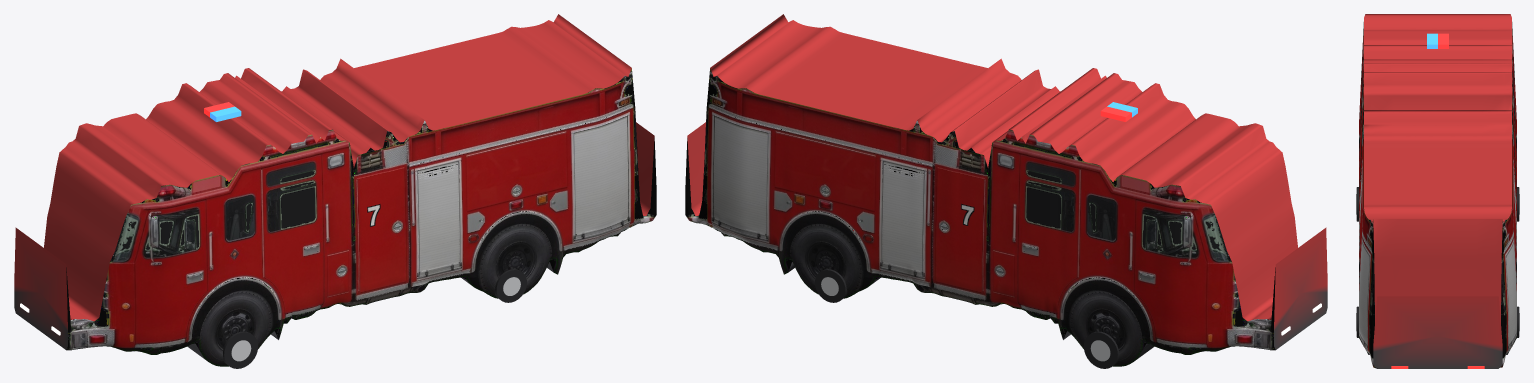
File: fire.glb
3 views of the same model, side by side, from view 1: azimuth 30°, elevation 25°; view 2: azimuth 150°, elevation 25°; view 3: azimuth 270°, elevation 25° (orthographic). The views are drawn at different scales.
Parts seen in each view (by area): view 1: fire; view 2: fire; view 3: fire.
Part boxes in pixels (x1,y1,x2,y2): fire: (14, 14, 656, 368); fire: (685, 14, 1327, 368); fire: (1356, 14, 1519, 368).
Bounding box in the file's own units: 6.53 × 2.34 × 1.8.
10 materials, 2 textured.
